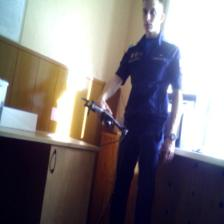drone: (80, 91, 132, 145)
